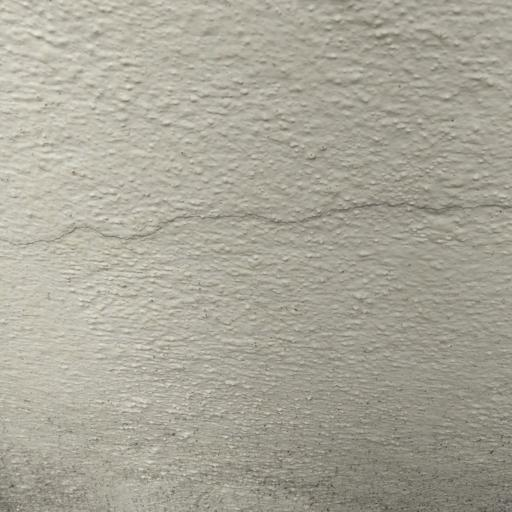minor_crack: (0, 164, 512, 259)
